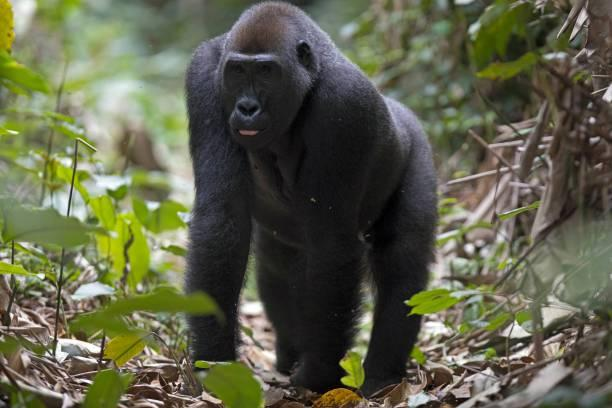gorille_Autres: (149, 0, 456, 408)
